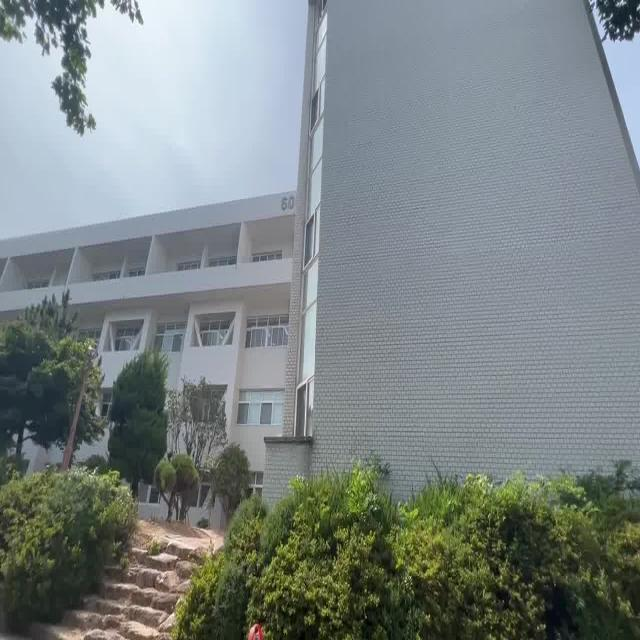building: (128, 8, 640, 461)
